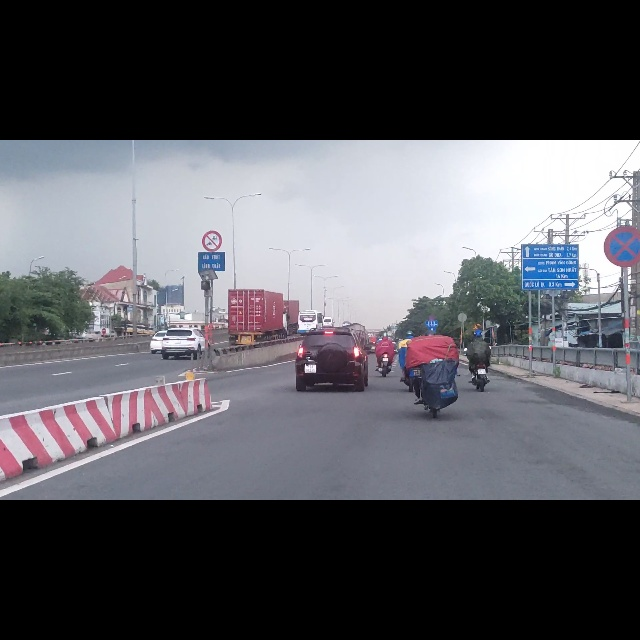bien_chi_dan: (604, 153, 640, 228), (202, 161, 222, 199), (102, 335, 106, 344)
